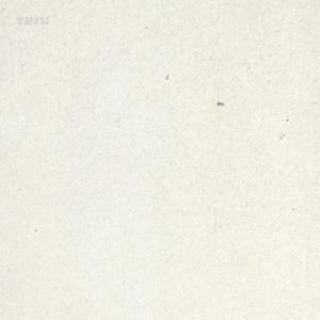Nailtrack_idkeyframe: (216, 100, 223, 106)
